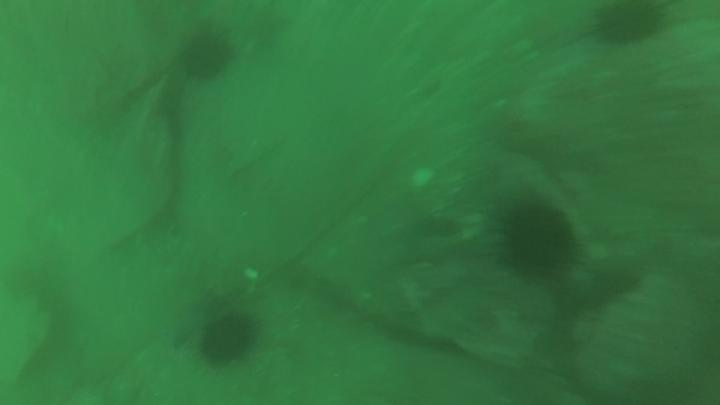echinus: (504, 207, 573, 281), (199, 317, 255, 367), (598, 2, 664, 43), (182, 33, 228, 81)
